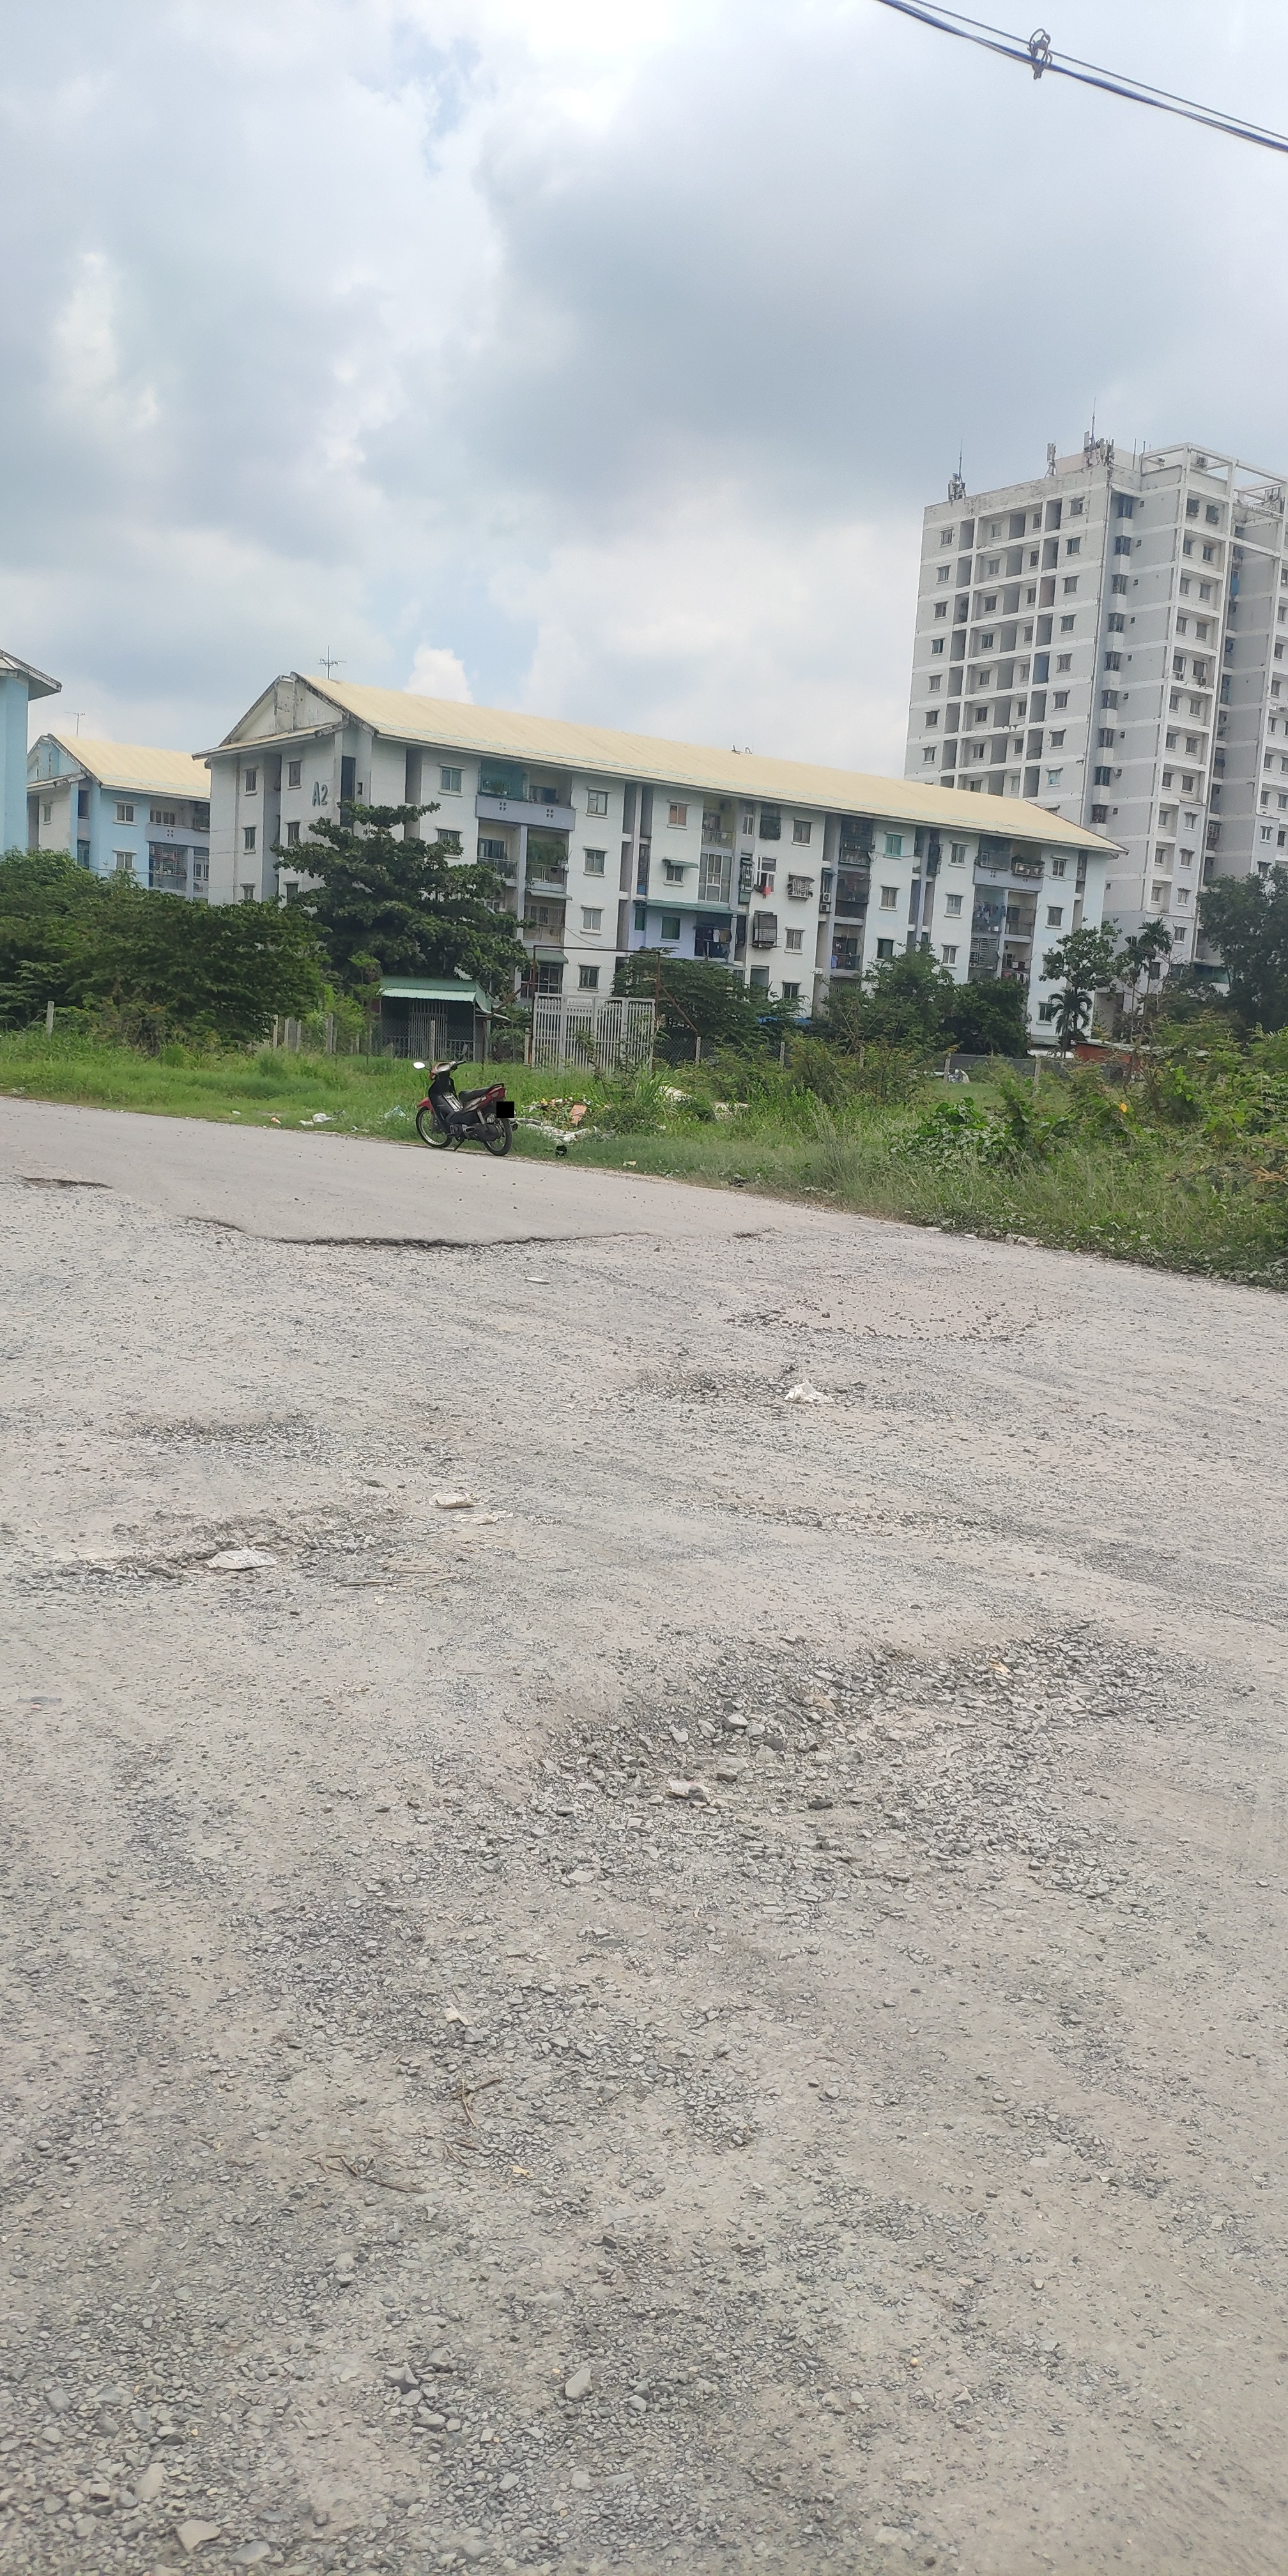hole: (521, 1620, 1088, 1906), (31, 1506, 401, 1605), (728, 1280, 1061, 1347), (623, 1360, 876, 1414), (131, 1403, 325, 1465), (266, 1230, 660, 1253), (7, 1173, 117, 1191), (731, 1221, 812, 1244)
